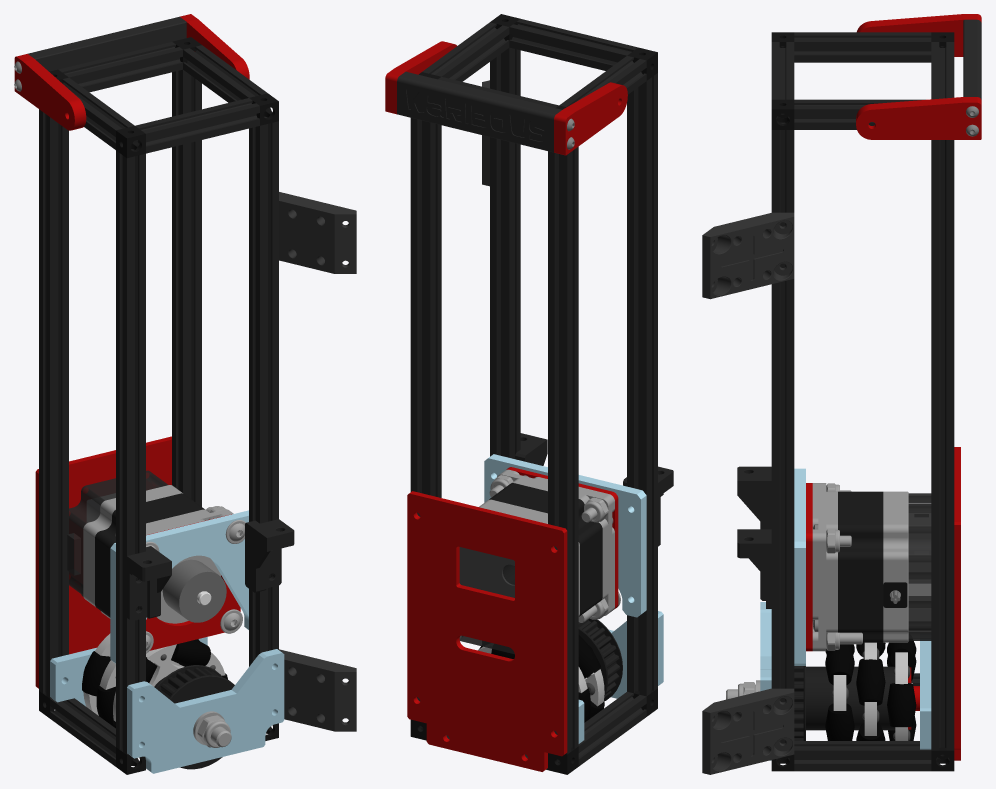
The model's file is robot-column.glb.
3 renders of one model, left to right at view 1: azimuth 30°, elevation 25°; view 2: azimuth 150°, elevation 25°; view 3: azimuth 270°, elevation 25°, orthographic. The views are drawn at different scales.
Parts seen in each view (by area): view 1: PlaqueInterneSupportRoue, CarterMoteur, BodyPartSide, SupportMoteur5mm, MB_300_121, MB_300_145, Front, MB_300_43, MB_300_28, MB_300_67, MB_300_4, BodyPartSide_91 (+50 smaller); view 2: CarterMoteur, Front, SupportMoteur5mm, MB_300_51, MB_300_60, MiddleCore, MB_300_52, MB_300_120, MB_300_130, MB_300_129, MB_300_99, MB_300_90 (+48 smaller); view 3: MiddleCore, BodyPartSide, MB_300_98, MB_300_107, MB_300_20, MB_300_29, Lateral001_15, FrontPanel, BodyPartSide_59, MKS_SERVO57B, RearPanel, MB_300_35 (+42 smaller).
Part boxes in pixels (<box>): PlaqueInterneSupportRoue: <box>127,649,284,773</box>; CarterMoteur: <box>35,436,171,688</box>; BodyPartSide: <box>279,649,356,731</box>; SupportMoteur5mm: <box>110,510,248,663</box>; MB_300_121: <box>50,117,56,698</box>; MB_300_145: <box>62,126,68,655</box>; Front: <box>27,16,186,71</box>; MB_300_43: <box>127,156,133,754</box>; MB_300_28: <box>272,121,278,649</box>; MB_300_67: <box>139,153,145,682</box>; MB_300_4: <box>260,124,266,653</box>; BodyPartSide_91: <box>279,201,334,273</box>; CarterMoteur: <box>407,491,567,771</box>; Front: <box>397,71,561,152</box>; SupportMoteur5mm: <box>484,454,646,617</box>; MB_300_51: <box>639,81,646,696</box>; MB_300_60: <box>627,90,633,693</box>; MiddleCore: <box>489,483,602,616</box>; MB_300_52: <box>646,78,650,695</box>; MB_300_120: <box>574,146,578,748</box>; MB_300_130: <box>567,152,571,754</box>; MB_300_129: <box>560,154,567,754</box>; MB_300_99: <box>410,118,417,697</box>; MB_300_90: <box>423,121,430,495</box>; MiddleCore: <box>838,491,883,642</box>; BodyPartSide: <box>702,688,794,774</box>; MB_300_98: <box>946,140,954,750</box>; MB_300_107: <box>931,140,939,750</box>; MB_300_20: <box>786,130,794,688</box>; MB_300_29: <box>771,130,779,688</box>; Lateral001_15: <box>856,102,981,139</box>; FrontPanel: <box>812,483,837,651</box>; BodyPartSide_59: <box>710,217,794,298</box>; MKS_SERVO57B: <box>908,493,931,640</box>; RearPanel: <box>883,491,908,642</box>; MB_300_35: <box>780,130,785,743</box>.
Size of the model in its own units: 0.113 by 0.3394 by 0.1224.
